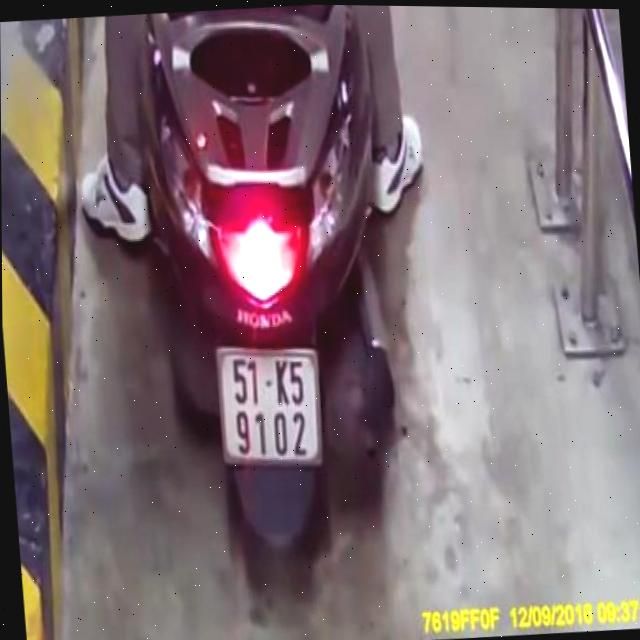motorcycle: (140, 2, 414, 578)
plate: (211, 335, 329, 474)
